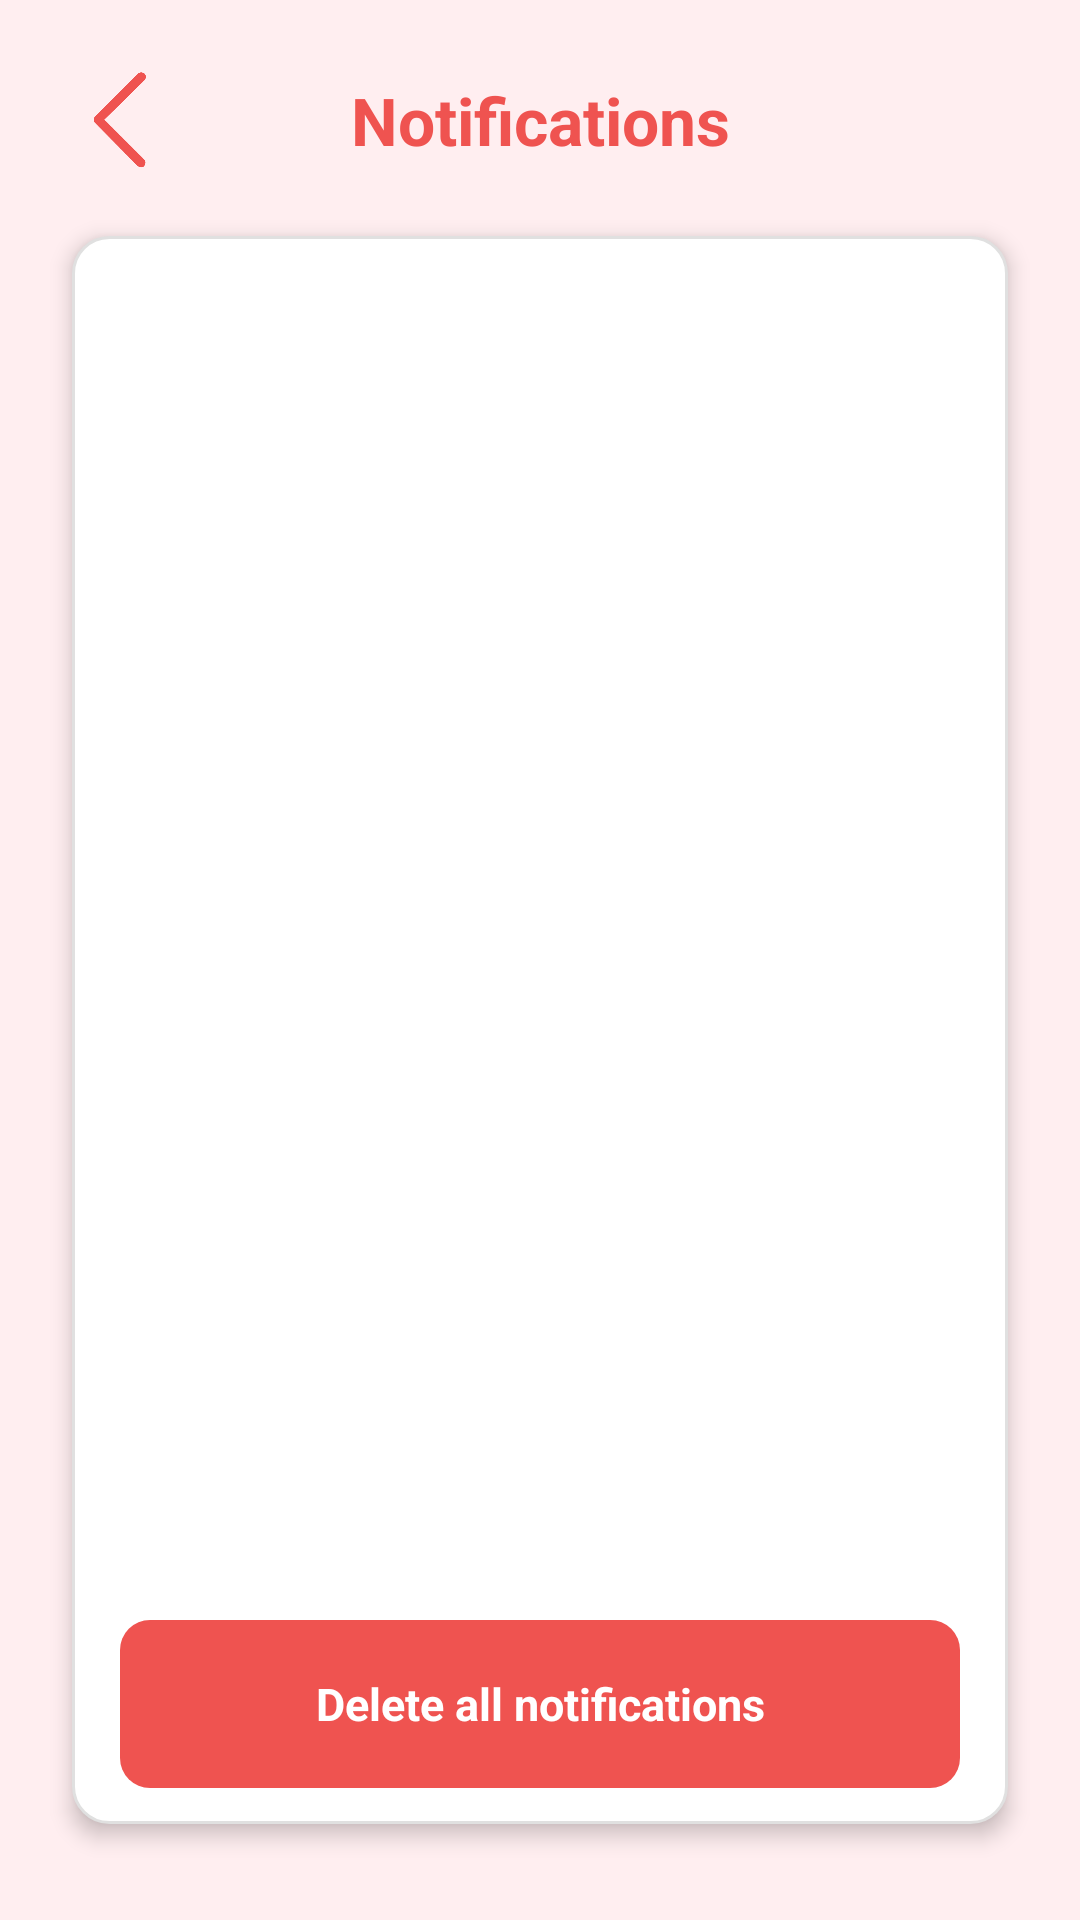

Locate icon controls on the screen. Image size 1080 x 1920, boxes as {"x1": x1, "y1": y1, "x2": x2, "y2": y2}.
revert: {"x1": 94, "y1": 72, "x2": 146, "y2": 167}
